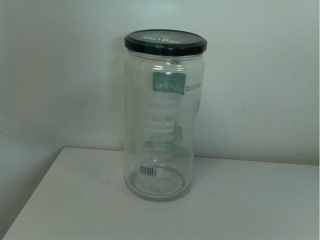pote cristal: (121, 27, 209, 204)
